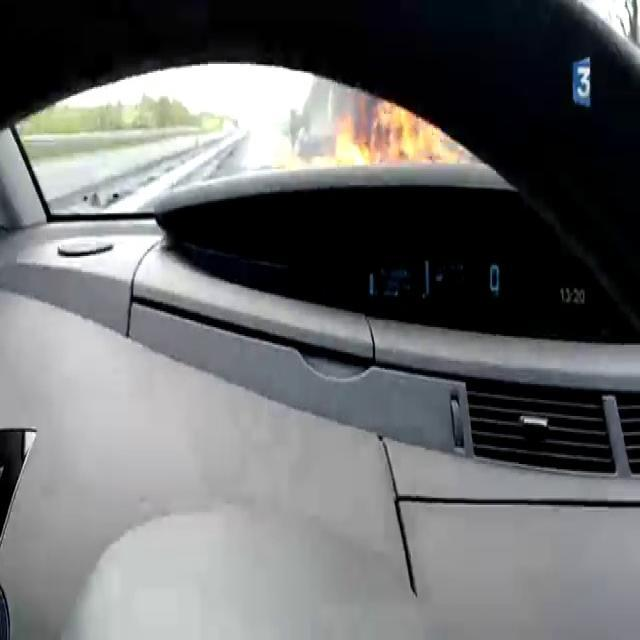Fire: (260, 92, 470, 176)
